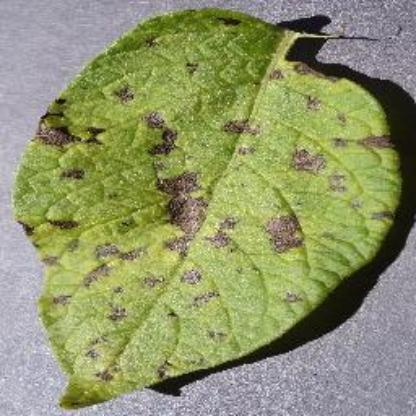Early-Blight: (16, 5, 410, 408)
